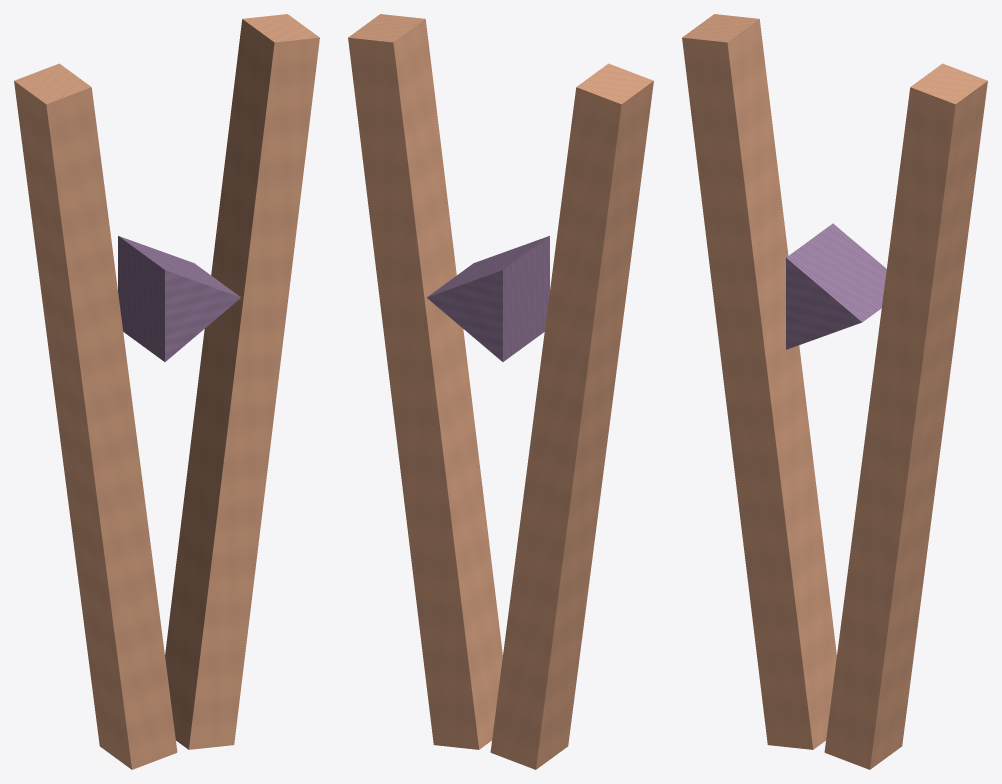
Rendered from atlas100-s086-a05.lod1.glb.
3 renders of one model, left to right at view 1: azimuth 30°, elevation 25°; view 2: azimuth 150°, elevation 25°; view 3: azimuth 330°, elevation 25°, orthographic.
Visible parts, largest first — view 1: atlas100-s086-a05:part-001, atlas100-s086-a05:part-000, atlas100-s086-a05:part-002; view 2: atlas100-s086-a05:part-001, atlas100-s086-a05:part-000, atlas100-s086-a05:part-002; view 3: atlas100-s086-a05:part-000, atlas100-s086-a05:part-001, atlas100-s086-a05:part-002.
Part boxes in pixels (box(x1,y1,x2,y2)): atlas100-s086-a05:part-001: box(165, 14, 319, 749); atlas100-s086-a05:part-000: box(14, 63, 177, 769); atlas100-s086-a05:part-002: box(118, 236, 240, 361); atlas100-s086-a05:part-001: box(348, 14, 502, 749); atlas100-s086-a05:part-000: box(490, 63, 653, 769); atlas100-s086-a05:part-002: box(427, 236, 549, 361); atlas100-s086-a05:part-000: box(682, 14, 836, 749); atlas100-s086-a05:part-001: box(824, 63, 987, 769); atlas100-s086-a05:part-002: box(786, 223, 886, 349).
Size of the model in its own units: 0.2936 by 0.7102 by 0.0874.
Materials: 2 (2 with a texture image).
